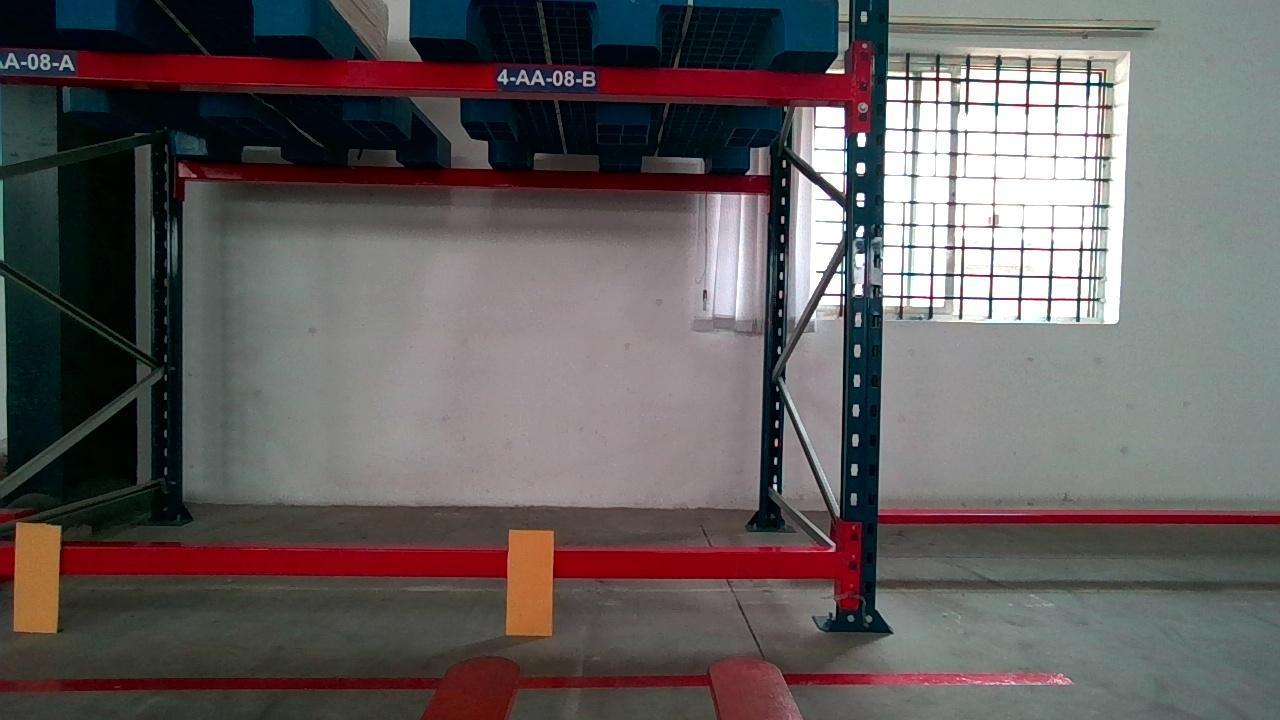h_rack: (3, 45, 854, 105)
orange_strip: (10, 520, 68, 642), (506, 528, 555, 644)
small_pallet: (407, 0, 832, 54), (0, 0, 320, 38)
